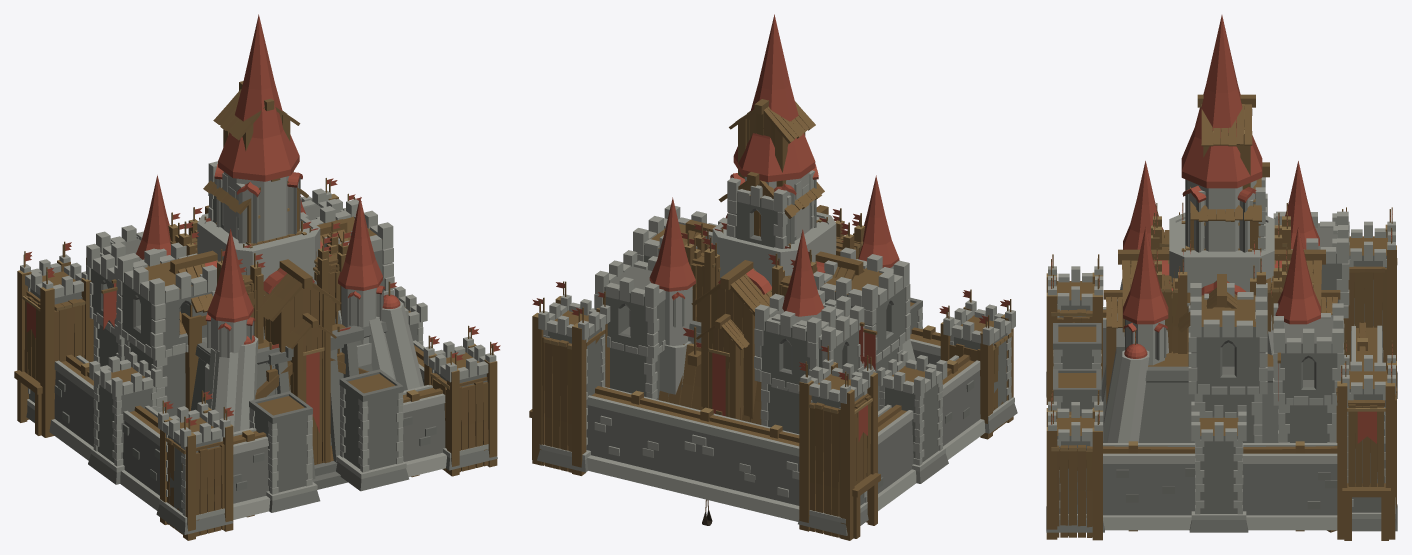
File: models.glb
3 renders of one model, left to right at view 1: azimuth 30°, elevation 25°; view 2: azimuth 150°, elevation 25°; view 3: azimuth 270°, elevation 25°, orthographic. The views are drawn at different scales.
Visible parts, largest first — view 1: building.castle.3, building.cathedral, building.castle, building.keep.3, building.monastery, building.keep.5, building.keep.4, building.fort, building.keep.2, building.castle.1; view 2: building.castle.3, building.castle, building.cathedral, building.monastery, building.keep.3, building.keep.5, building.keep.4, building.fort; view 3: building.castle.3, building.cathedral, building.castle, building.keep.4, building.keep.3, building.keep.5, building.monastery, building.fort.
Part boxes in pixels (bbox=[...]): building.castle.3: bbox=[20, 178, 497, 534]; building.cathedral: bbox=[136, 14, 384, 402]; building.castle: bbox=[14, 179, 500, 540]; building.keep.3: bbox=[117, 161, 394, 489]; building.monastery: bbox=[169, 81, 348, 464]; building.keep.5: bbox=[86, 188, 395, 462]; building.keep.4: bbox=[96, 225, 423, 479]; building.fort: bbox=[168, 196, 351, 316]; building.keep.2: bbox=[181, 221, 350, 411]; building.castle.1: bbox=[175, 207, 349, 461]; building.castle.3: bbox=[536, 281, 1017, 535]; building.castle: bbox=[529, 219, 1013, 540]; building.cathedral: bbox=[649, 14, 899, 396]; building.monastery: bbox=[684, 99, 864, 421]; building.keep.3: bbox=[633, 170, 910, 415]; building.keep.5: bbox=[594, 250, 915, 399]; building.keep.4: bbox=[689, 289, 864, 434]; building.fort: bbox=[658, 208, 864, 424]; building.castle.3: bbox=[1046, 207, 1397, 532]; building.cathedral: bbox=[1123, 15, 1320, 365]; building.castle: bbox=[1046, 209, 1397, 540]; building.keep.4: bbox=[1101, 211, 1349, 442]; building.keep.3: bbox=[1188, 177, 1267, 442]; building.keep.5: bbox=[1273, 213, 1344, 532]; building.monastery: bbox=[1103, 94, 1340, 404]; building.fort: bbox=[1153, 202, 1290, 353].
Bounding box in the file's own units: 30 × 41.07 × 26.72.
